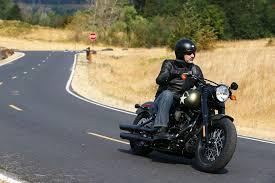bike: (121, 76, 241, 172)
